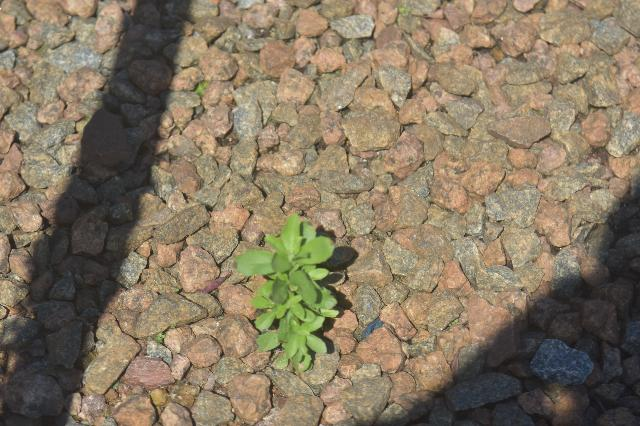MalezaMontesDelPlata: (228, 212, 342, 378)
